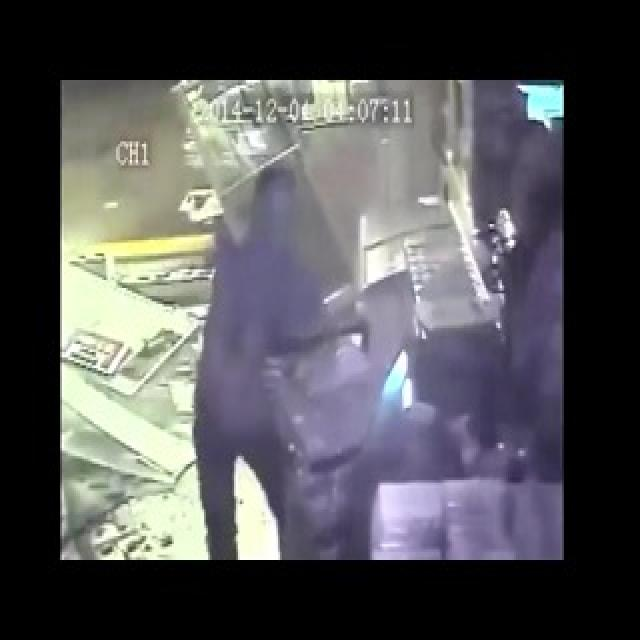thief: (209, 160, 309, 359)
